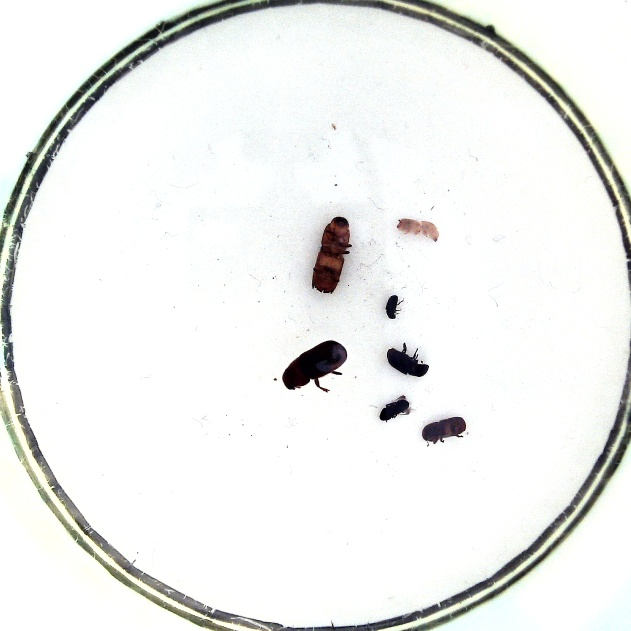acuminatus: (393, 216, 442, 242)
armandi: (384, 341, 433, 379)
boerner: (306, 214, 354, 295)
coleoptera: (377, 392, 414, 424), (383, 292, 404, 320)
leconte: (279, 338, 350, 394)
linnaeus: (420, 416, 468, 445)
